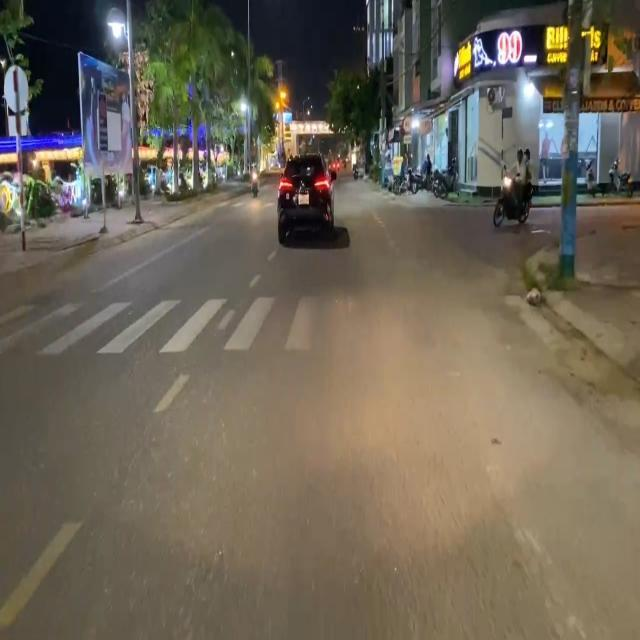walk-crossing: (3, 293, 564, 362)
